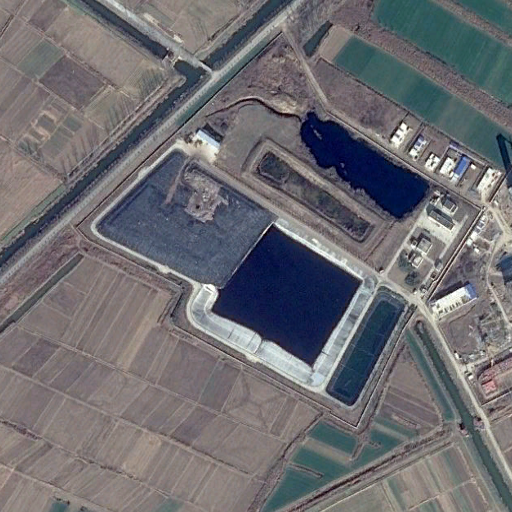lf: (93, 148, 278, 286)
